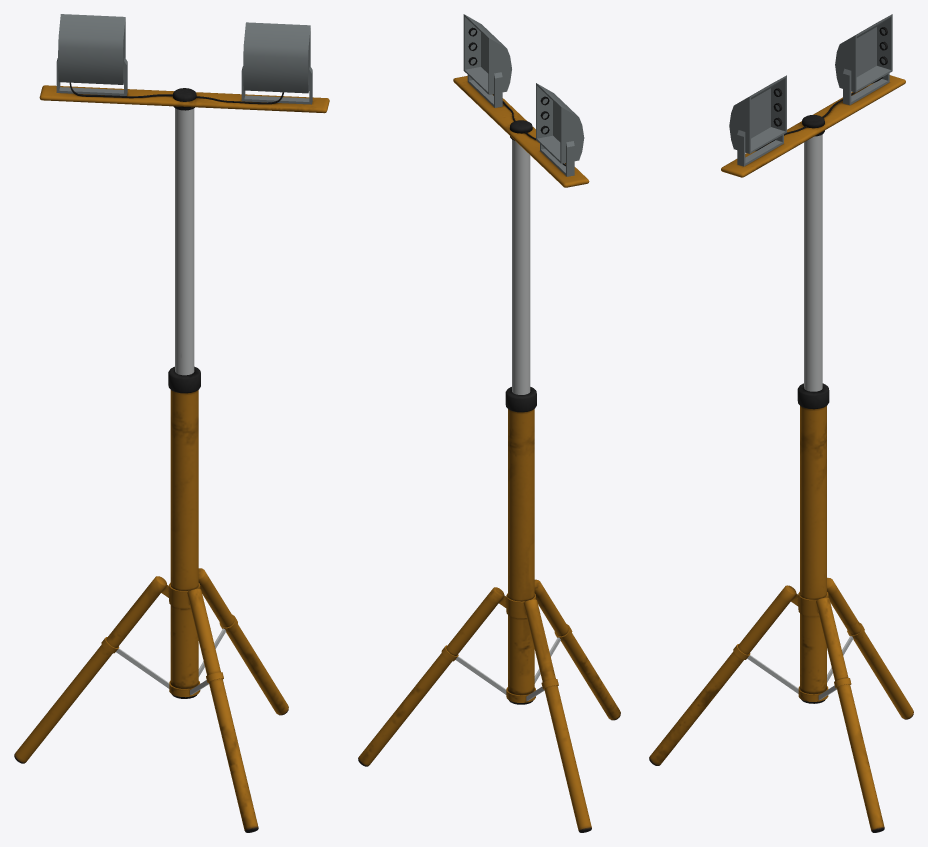
Rendered from onduslight.fbx.
3 views of the same model, side by side, from view 1: azimuth 30°, elevation 25°; view 2: azimuth 150°, elevation 25°; view 3: azimuth 270°, elevation 25° (orthographic). The views are drawn at different scales.
Parts seen in each view (by area): view 1: IndusLight_01; view 2: IndusLight_01; view 3: IndusLight_01.
Boxes of the visible parts, <box> form: IndusLight_01: <box>14,14,329,832</box>; IndusLight_01: <box>358,14,620,832</box>; IndusLight_01: <box>649,14,913,832</box>.
Size of the model in its own units: 1.11 by 3.06 by 1.02.
